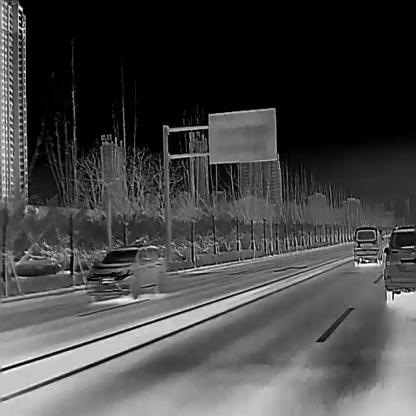car: (86, 243, 162, 301), (382, 224, 416, 303), (351, 225, 383, 266)
